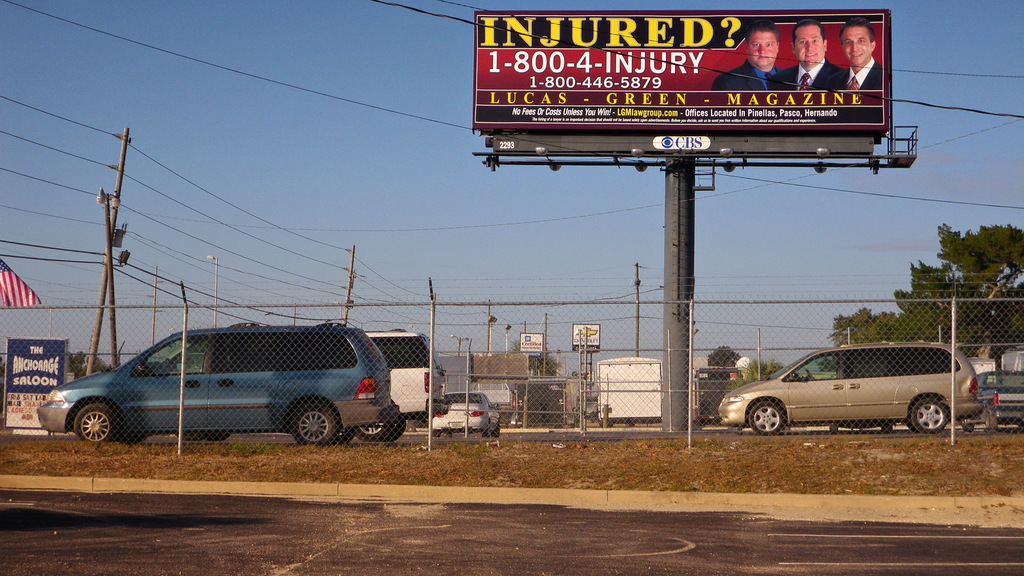Car: (33, 318, 400, 448), (716, 337, 985, 436), (353, 330, 449, 442), (957, 368, 1023, 433), (430, 387, 501, 440)
